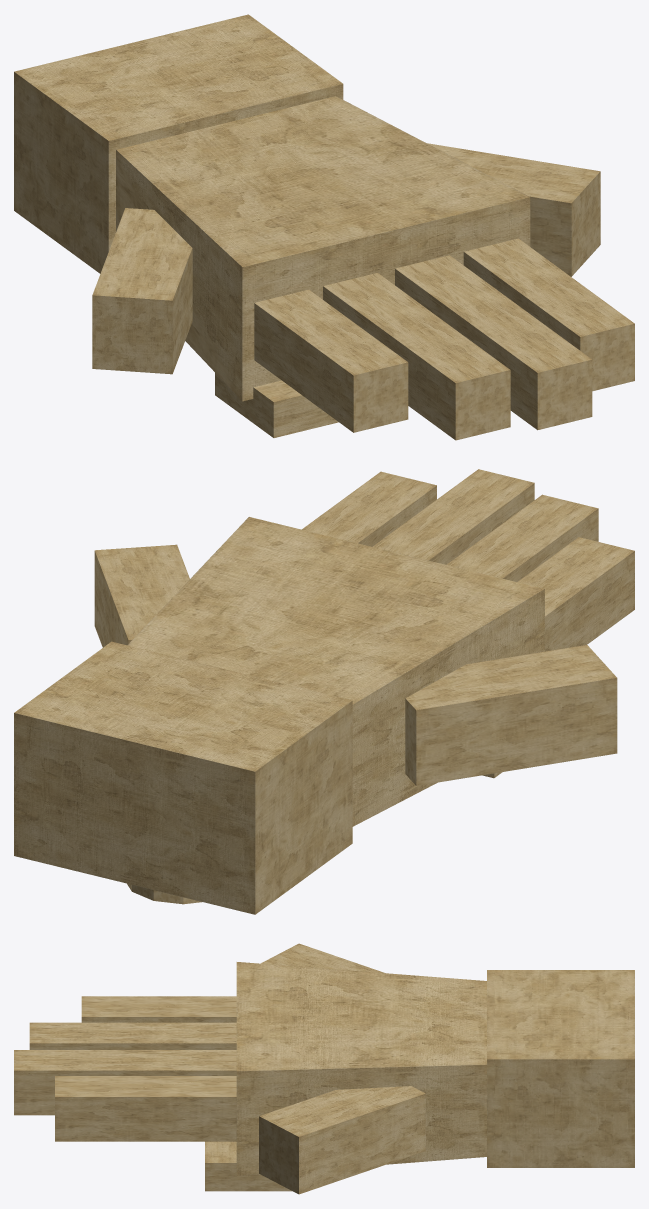
The model's file is CHR_HAND_P1_001.obj.
The picture shows the model from 3 angles, top to bottom: view 1: azimuth 30°, elevation 25°; view 2: azimuth 150°, elevation 25°; view 3: azimuth 270°, elevation 25°; orthographic projection. The views are drawn at different scales.
Parts seen in each view (by area): view 1: Left_Palm, Left_Cuff, Left_Finger_3, Left_Finger_1, Left_Finger_2, Left_Thumb, Left_Finger_4, Right_Thumb, Left_KnucklePad; view 2: Left_Cuff, Left_Palm, Left_Thumb, Left_Finger_1, Left_Finger_3, Right_Thumb, Left_Finger_2, Left_Finger_4; view 3: Left_Palm, Left_Cuff, Right_Thumb, Left_Finger_4, Left_Finger_3, Left_Finger_2, Left_Finger_1, Left_KnucklePad, Left_Thumb.
Part boxes in pixels (left/top/right/bottom): Left_Palm: left=116, top=96, right=530, bottom=401; Left_Cuff: left=14, top=14, right=343, bottom=273; Left_Finger_3: left=395, top=255, right=592, bottom=430; Left_Finger_1: left=254, top=289, right=408, bottom=432; Left_Finger_2: left=323, top=273, right=510, bottom=440; Left_Thumb: left=92, top=208, right=192, bottom=374; Left_Finger_4: left=463, top=238, right=634, bottom=391; Right_Thumb: left=427, top=143, right=600, bottom=276; Left_KnucklePad: left=215, top=373, right=338, bottom=437; Left_Cuff: left=14, top=641, right=352, bottom=914; Left_Palm: left=127, top=517, right=544, bottom=826; Left_Thumb: left=405, top=645, right=617, bottom=785; Left_Finger_1: left=517, top=537, right=634, bottom=651; Left_Finger_3: left=372, top=469, right=534, bottom=564; Right_Thumb: left=94, top=544, right=189, bottom=647; Left_Finger_2: left=446, top=494, right=598, bottom=581; Left_Finger_4: left=302, top=471, right=436, bottom=546; Left_Palm: left=236, top=962, right=486, bottom=1175; Left_Cuff: left=487, top=970, right=634, bottom=1167; Right_Thumb: left=259, top=1086, right=425, bottom=1194; Left_Finger_4: left=55, top=1076, right=236, bottom=1141; Left_Finger_3: left=14, top=1050, right=236, bottom=1115; Left_Finger_2: left=29, top=1022, right=236, bottom=1049; Left_Finger_1: left=81, top=996, right=236, bottom=1022; Left_KnucklePad: left=205, top=1141, right=292, bottom=1191; Left_Thumb: left=261, top=943, right=385, bottom=973.
Bounding box in the file's own units: 0.3249 × 0.1025 × 0.4405.
2 materials, 2 textured.
